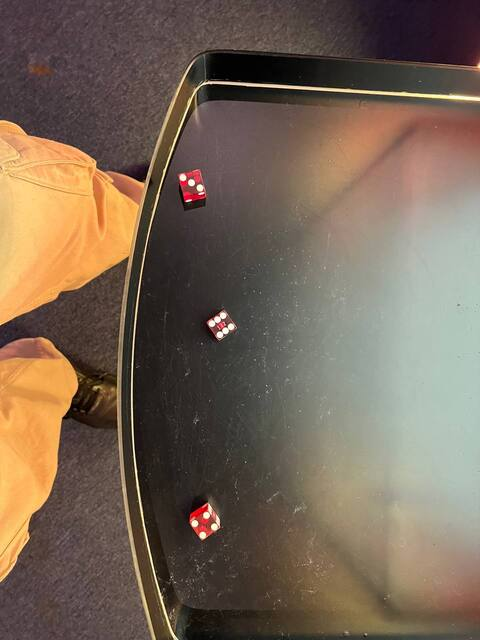four: (187, 508, 220, 543)
six: (204, 307, 240, 342)
three: (176, 167, 207, 196)
